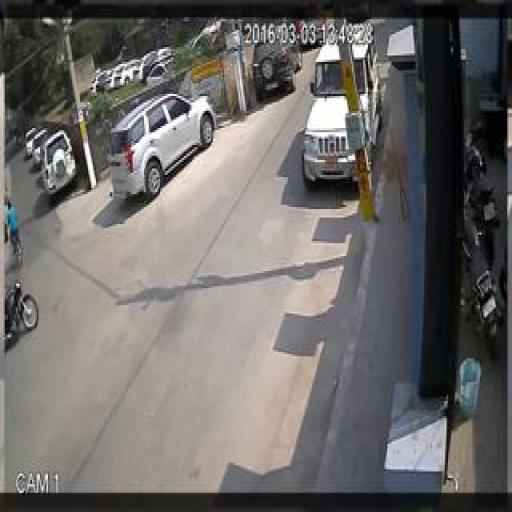Car: (304, 36, 381, 194), (108, 99, 216, 196), (252, 30, 301, 98), (39, 133, 77, 201), (31, 132, 47, 160), (24, 127, 36, 159)
Motor: (0, 280, 42, 336)
Not Accident: (24, 125, 76, 203)
